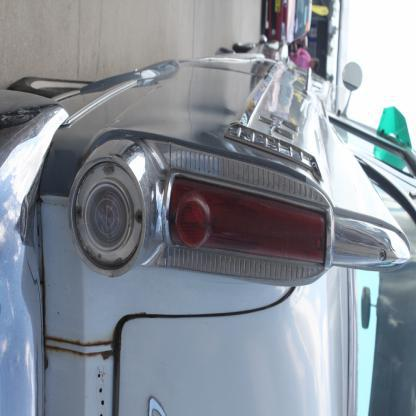car: (0, 44, 415, 415), (264, 0, 313, 44)
